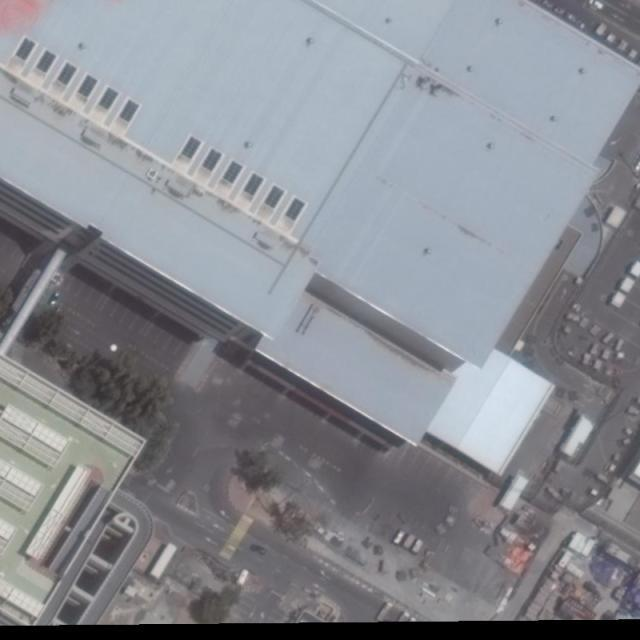vehicle: (590, 1, 604, 10)
